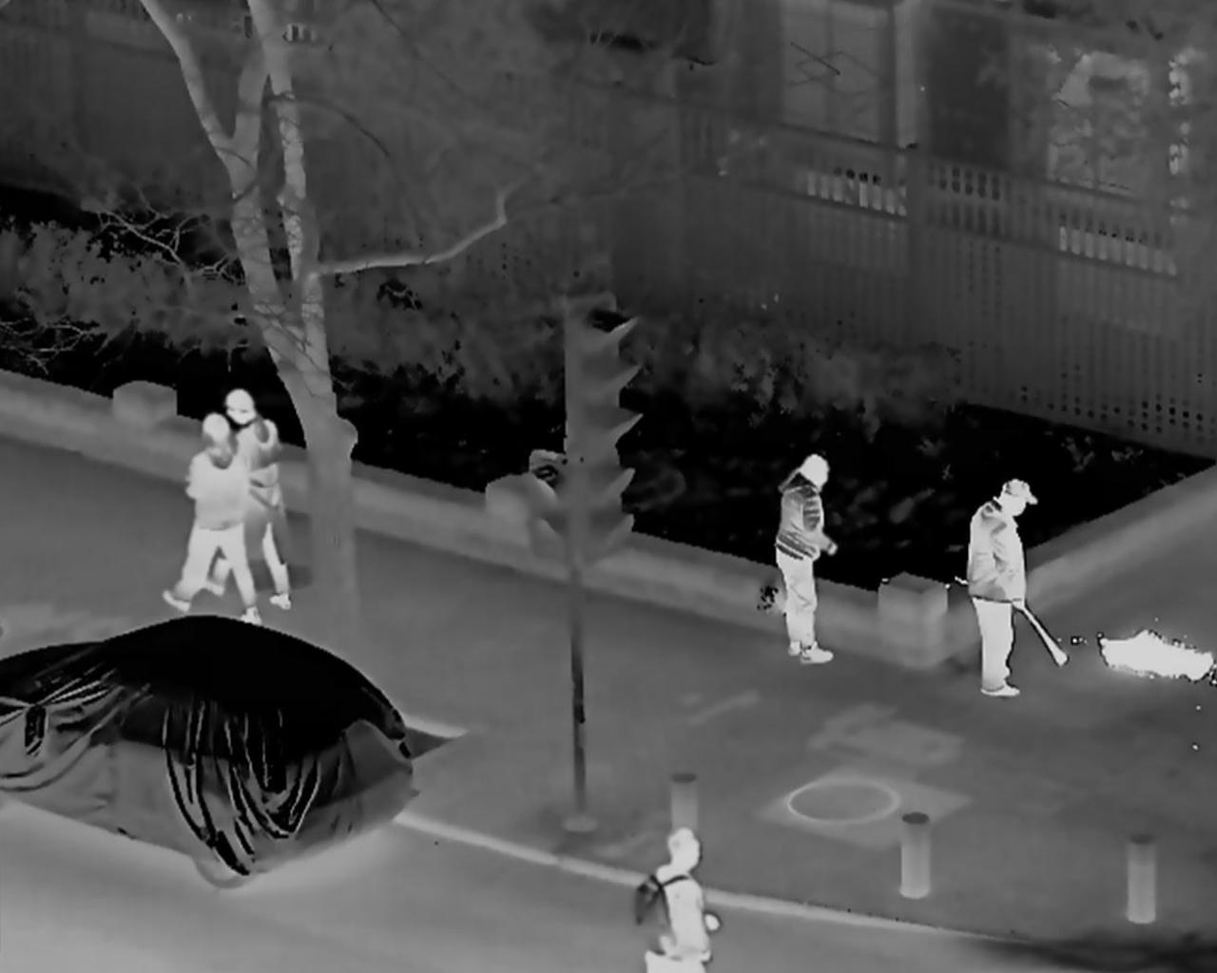person: (162, 413, 259, 624), (204, 393, 299, 605), (965, 471, 1037, 699), (765, 448, 837, 668), (636, 831, 720, 973)
